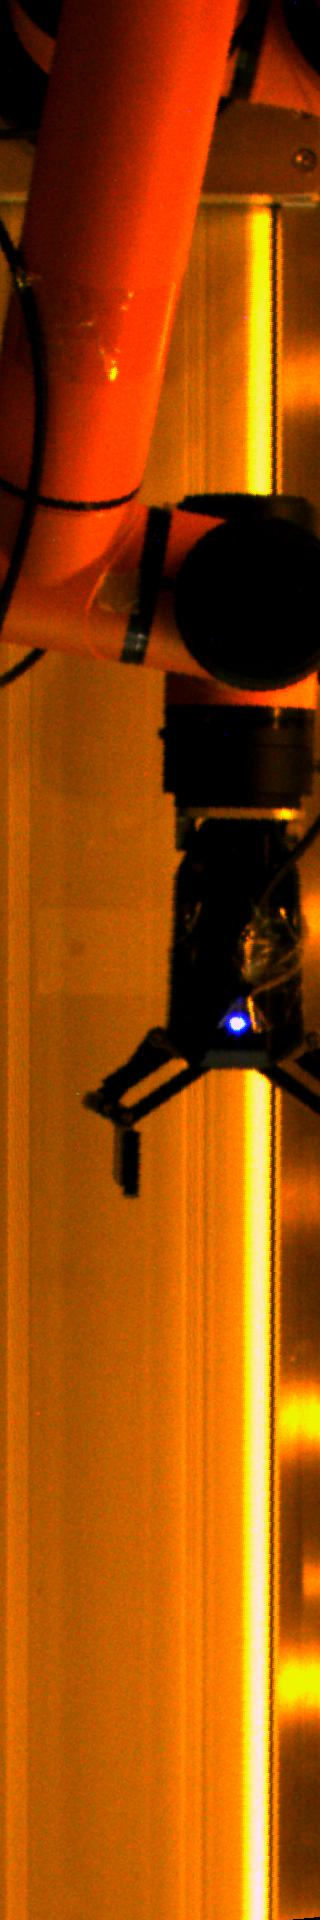keyPoint_1: (222, 1007, 253, 1037)
